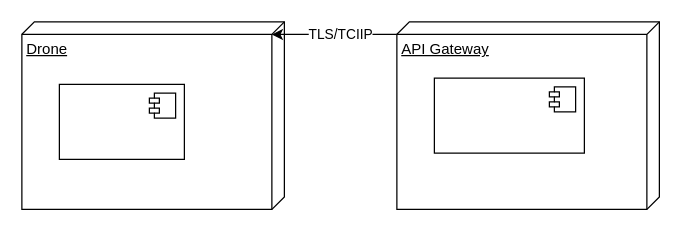
This 681x231 diagram has some shape labels left out. The shapes that lost their labels are listed below. From the top down, each one's centre as x and y in pixels, then its label:
At pixel 121 121: "system.exe".
At pixel 508 115: "AI responses".
